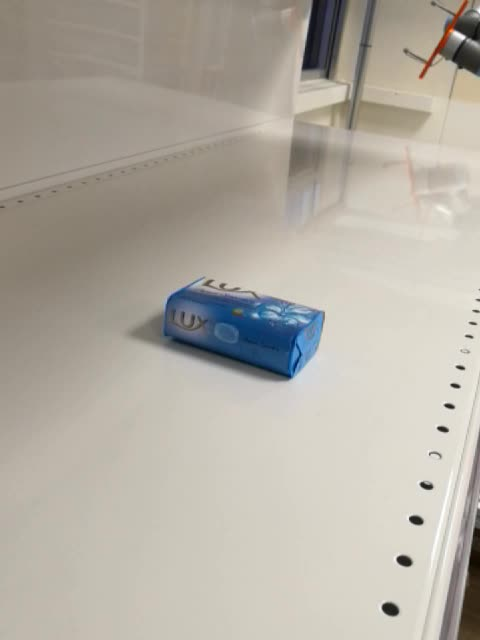soap: (162, 274, 327, 382)
